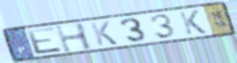3: (119, 17, 148, 42), (149, 14, 177, 39)
E: (25, 26, 65, 56)
H: (53, 21, 96, 54)
K: (177, 9, 209, 36), (89, 20, 120, 47)
